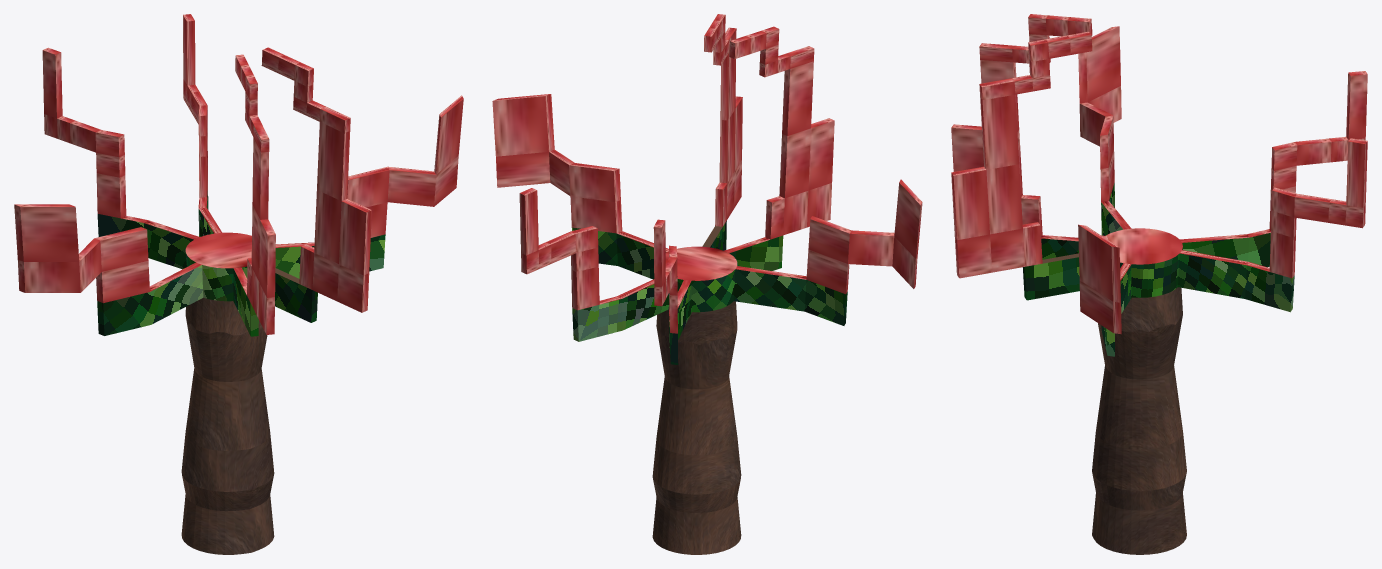
Rendered from plant3.fbx.
The picture shows the model from 3 angles, left to right: view 1: azimuth 30°, elevation 25°; view 2: azimuth 150°, elevation 25°; view 3: azimuth 270°, elevation 25°; orthographic projection. The views are drawn at different scales.
Parts seen in each view (by area): view 1: woodText'; view 2: woodText'; view 3: woodText'.
Part boxes in pixels (x1,y1,x2,y2): woodText': (14, 14, 463, 554); woodText': (492, 14, 922, 554); woodText': (951, 14, 1367, 554).
Size of the model in its own units: 1114 by 1192 by 886.
